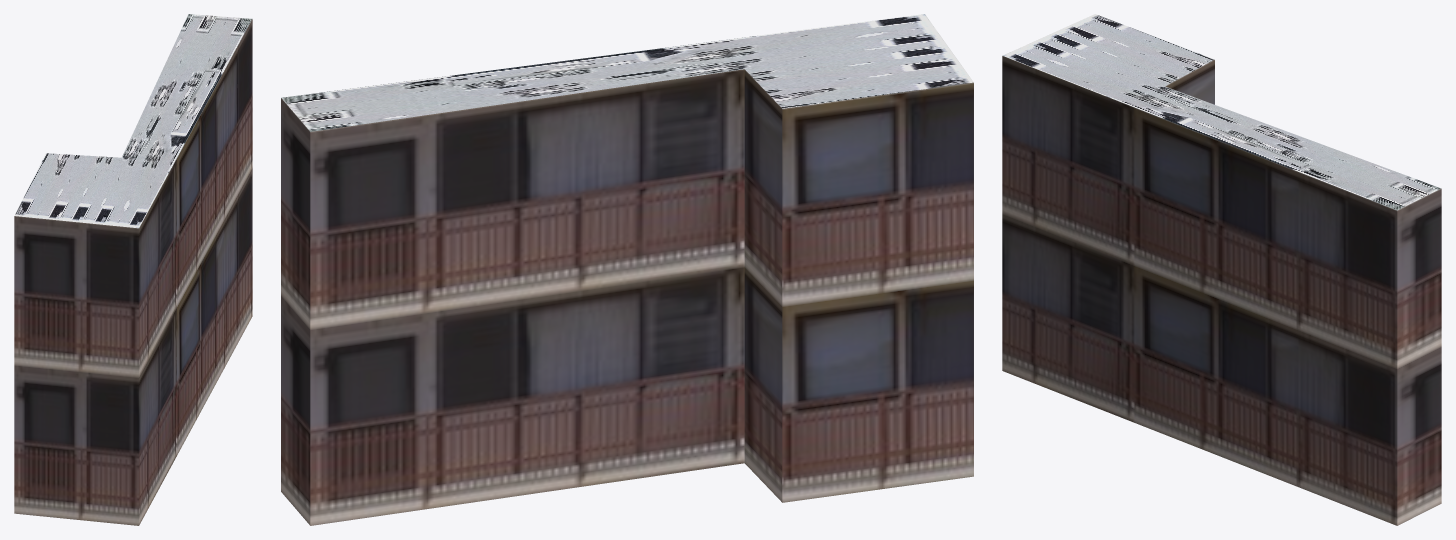
Rendered from ResTex__4360.fbx.
3 views of the same model, side by side, from view 1: azimuth 30°, elevation 25°; view 2: azimuth 150°, elevation 25°; view 3: azimuth 270°, elevation 25° (orthographic). The views are drawn at different scales.
Parts seen in each view (by area): view 1: CityEngineMaterial_6_m, CityEngineMaterial_4_m; view 2: CityEngineMaterial_6_m, CityEngineMaterial_4_m; view 3: CityEngineMaterial_6_m, CityEngineMaterial_4_m.
Boxes of the visible parts, bbox=[...] form: CityEngineMaterial_6_m: bbox=[14, 19, 252, 525]; CityEngineMaterial_4_m: bbox=[14, 14, 252, 228]; CityEngineMaterial_6_m: bbox=[281, 69, 973, 525]; CityEngineMaterial_4_m: bbox=[281, 14, 973, 131]; CityEngineMaterial_6_m: bbox=[1002, 56, 1441, 525]; CityEngineMaterial_4_m: bbox=[1003, 14, 1441, 210].
Size of the model in its own units: 8.03 by 6 by 7.58.
Materials: 2 (2 with a texture image).
